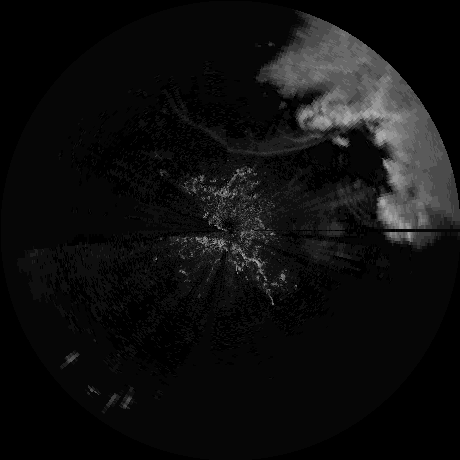frontgust: (211, 133, 329, 157)
